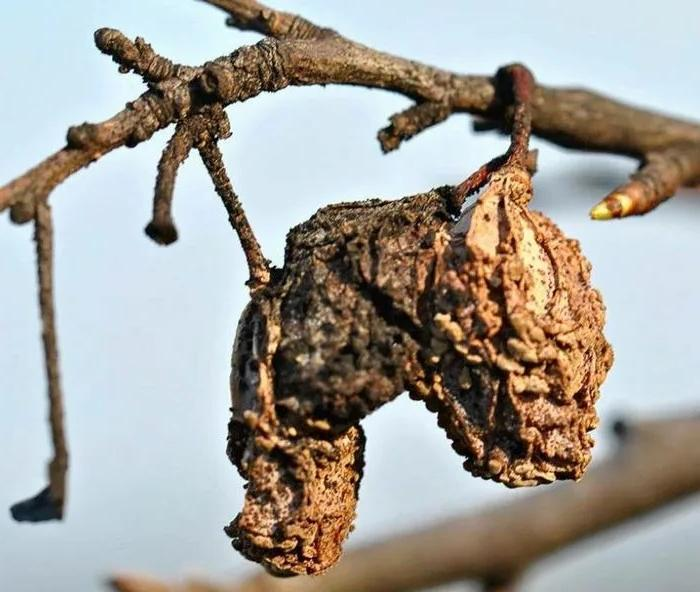mummified_fruits: (227, 148, 612, 575)
